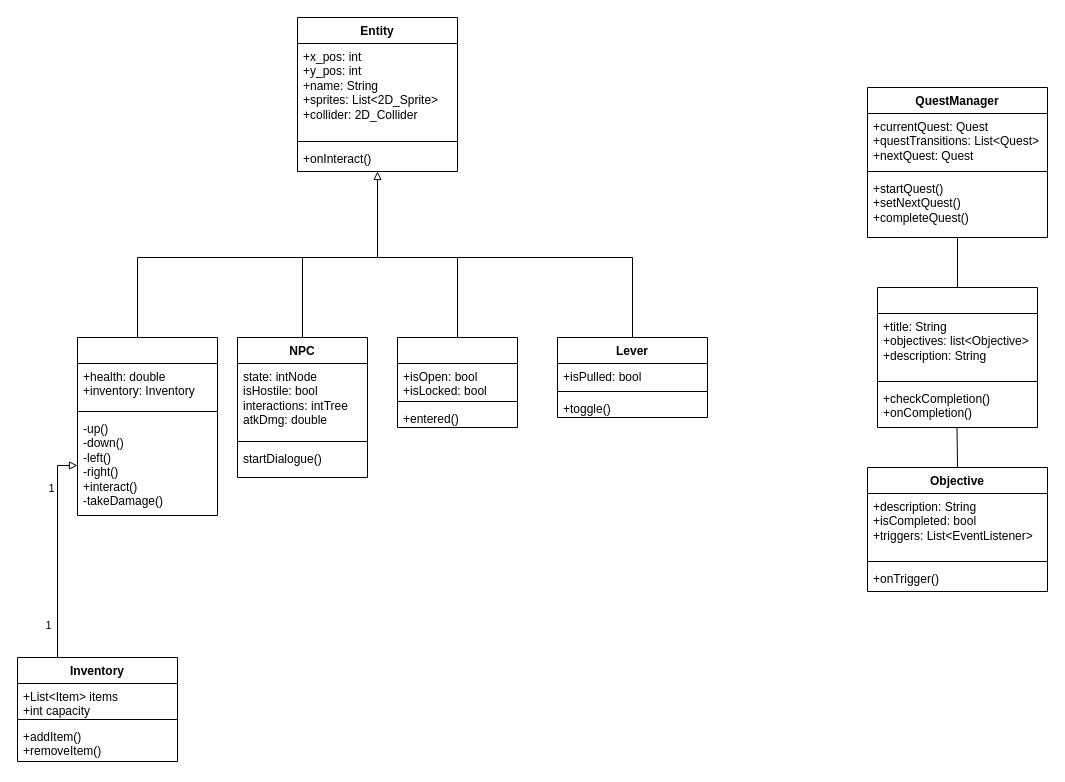
This 1065x782 diagram has some shape labels left out. Here are the shapes that lost their labels. From the top down, the box of each, then its label:
(876, 286, 1038, 428): Quest
(396, 336, 518, 428): Door
(76, 336, 218, 516): Player
